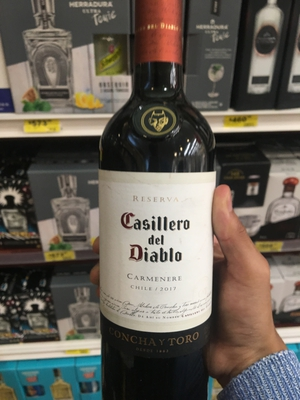casillero del diablo carmenere: (92, 9, 228, 400)
